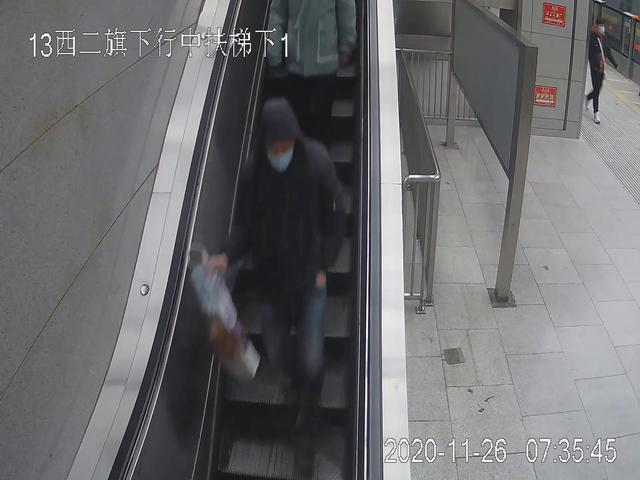person: (206, 97, 345, 480), (584, 18, 620, 126)
